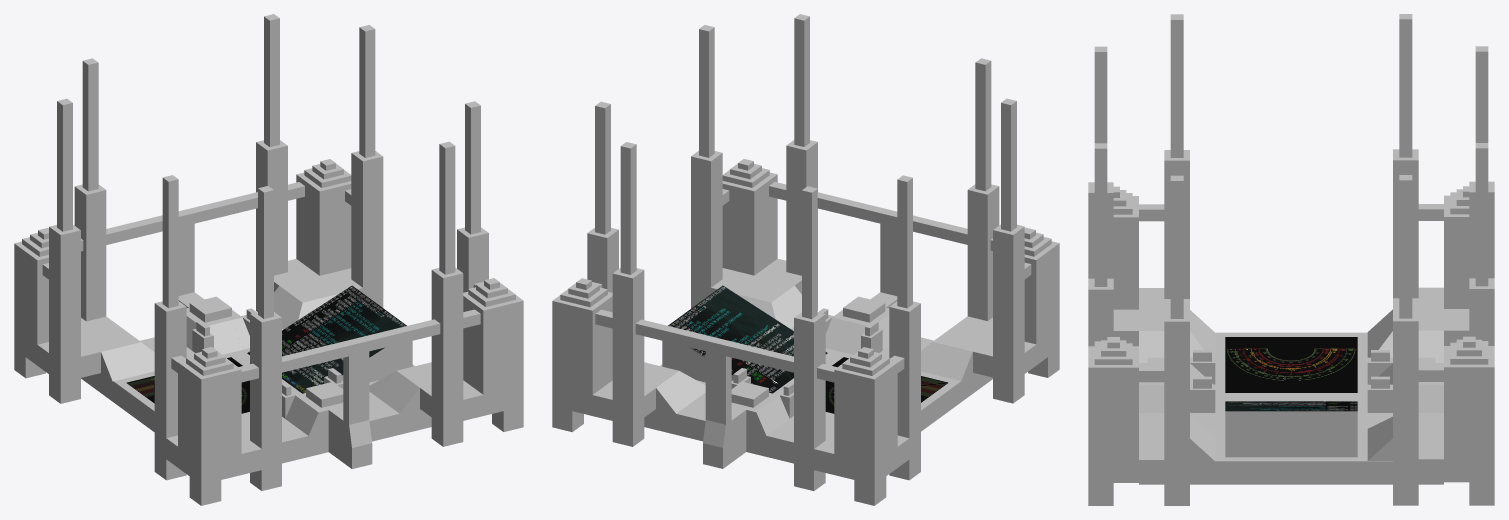
File: SignalBooster.fbx
3 views of the same model, side by side, from view 1: azimuth 30°, elevation 25°; view 2: azimuth 150°, elevation 25°; view 3: azimuth 270°, elevation 25° (orthographic). The views are drawn at different scales.
Parts seen in each view (by area): view 1: Antenna1, Antenna2, Base; view 2: Antenna2, Antenna1, Base; view 3: Antenna2, Antenna1, Base.
Boxes of the visible parts, bbox=[...] form: Antenna1: bbox=[154, 101, 523, 505]; Antenna2: bbox=[14, 14, 383, 403]; Base: bbox=[81, 285, 431, 463]; Antenna2: bbox=[552, 101, 920, 505]; Antenna1: bbox=[691, 14, 1059, 403]; Base: bbox=[644, 285, 992, 463]; Antenna2: bbox=[1367, 14, 1494, 505]; Antenna1: bbox=[1088, 14, 1215, 505]; Base: bbox=[1139, 332, 1443, 484].
Size of the model in its own units: 40.75 by 35.56 by 40.64.
